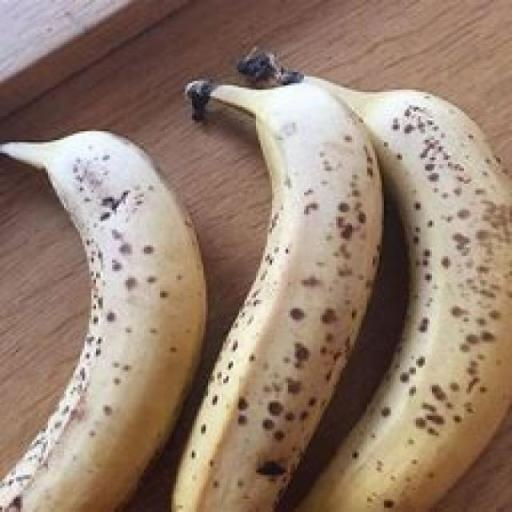fruit: (300, 77, 511, 511), (172, 82, 381, 511), (0, 132, 203, 511)
